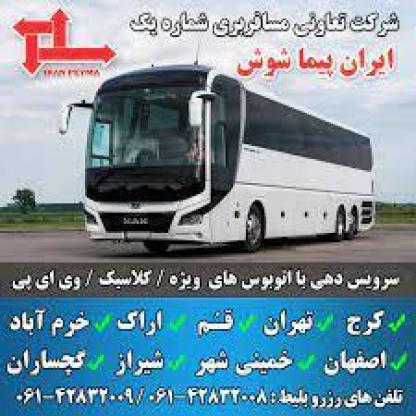Bus: (61, 69, 386, 255)
